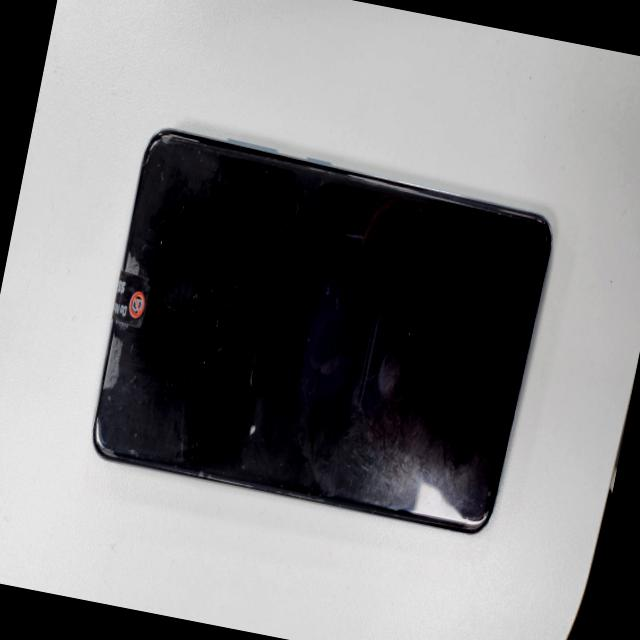phone: (82, 132, 560, 542)
sticker: (109, 272, 152, 328)
